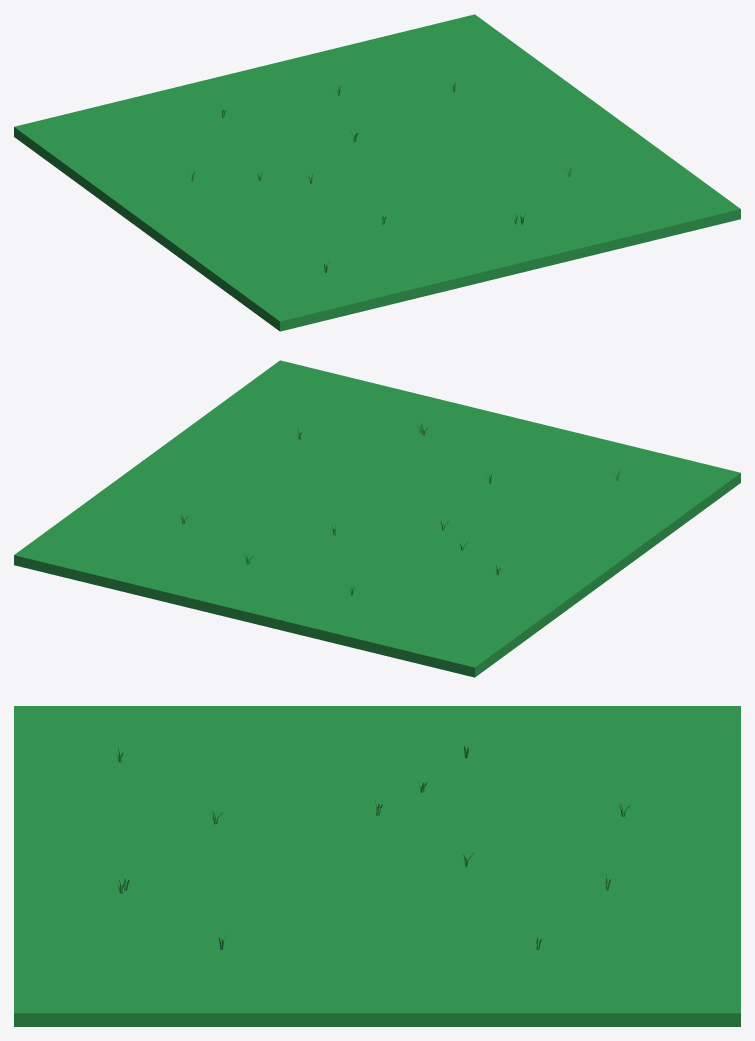
Rendered from Grass.fbx.
3 renders of one model, top to bottom at view 1: azimuth 30°, elevation 25°; view 2: azimuth 150°, elevation 25°; view 3: azimuth 270°, elevation 25°, orthographic. The views are drawn at different scales.
Visible parts, largest first — view 1: Grass; view 2: Grass; view 3: Grass.
Boxes of the visible parts, x1,y1,x2,y2 form: Grass: (14,14,740,331); Grass: (14,360,740,677); Grass: (14,706,740,1026).
Bounding box in the file's own units: 500 × 20.32 × 500.
